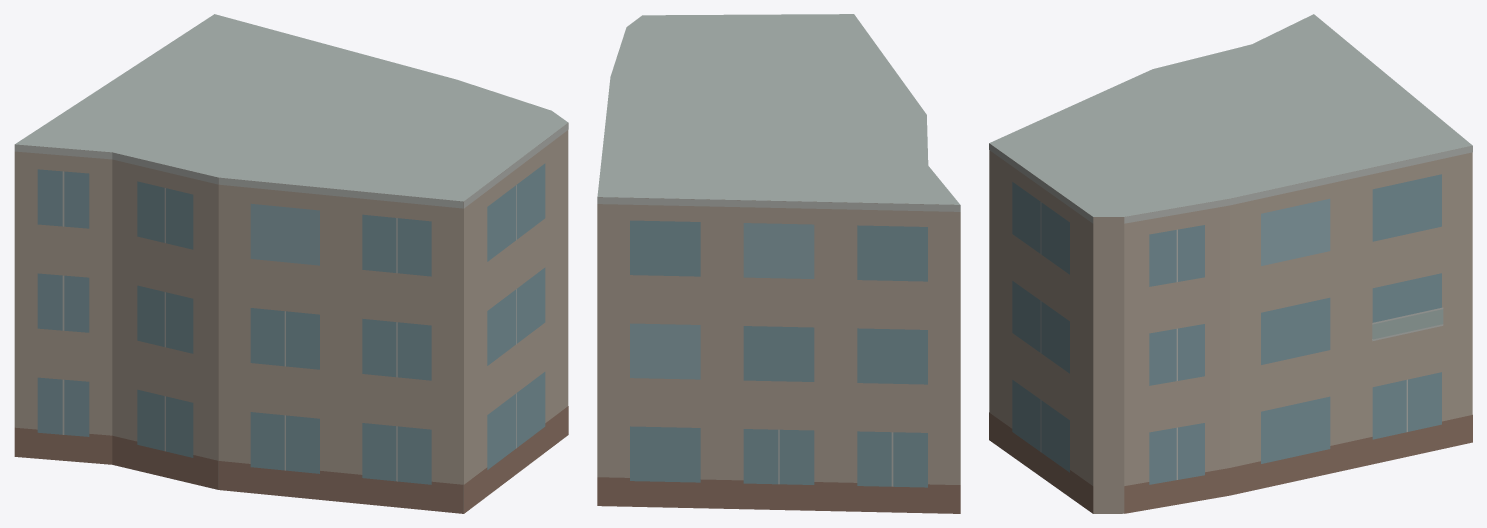
The model's file is survey-upis-32806291.glb.
The picture shows the model from 3 angles, left to right: view 1: azimuth 30°, elevation 25°; view 2: azimuth 150°, elevation 25°; view 3: azimuth 270°, elevation 25°; orthographic projection. The views are drawn at different scales.
Parts seen in each view (by area): view 1: survey-upis-32806291.tmp; view 2: survey-upis-32806291.tmp; view 3: survey-upis-32806291.tmp.
Part boxes in pixels (x1,y1,x2,y2): survey-upis-32806291.tmp: [14, 14, 568, 513]; survey-upis-32806291.tmp: [597, 14, 960, 513]; survey-upis-32806291.tmp: [989, 14, 1472, 513].
Bounding box in the file's own units: 15.7 × 10.7 × 15.81.
